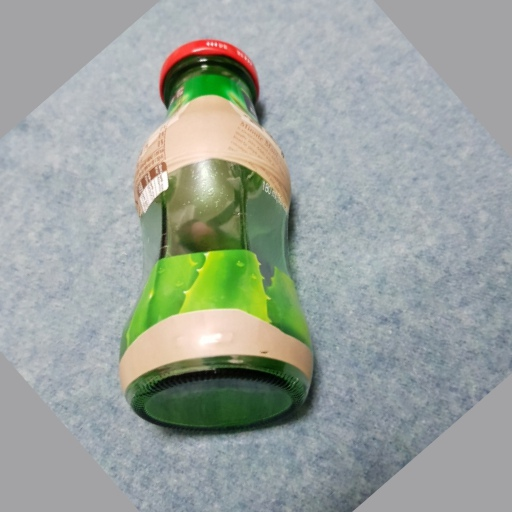Glass_4: (115, 39, 316, 427)
